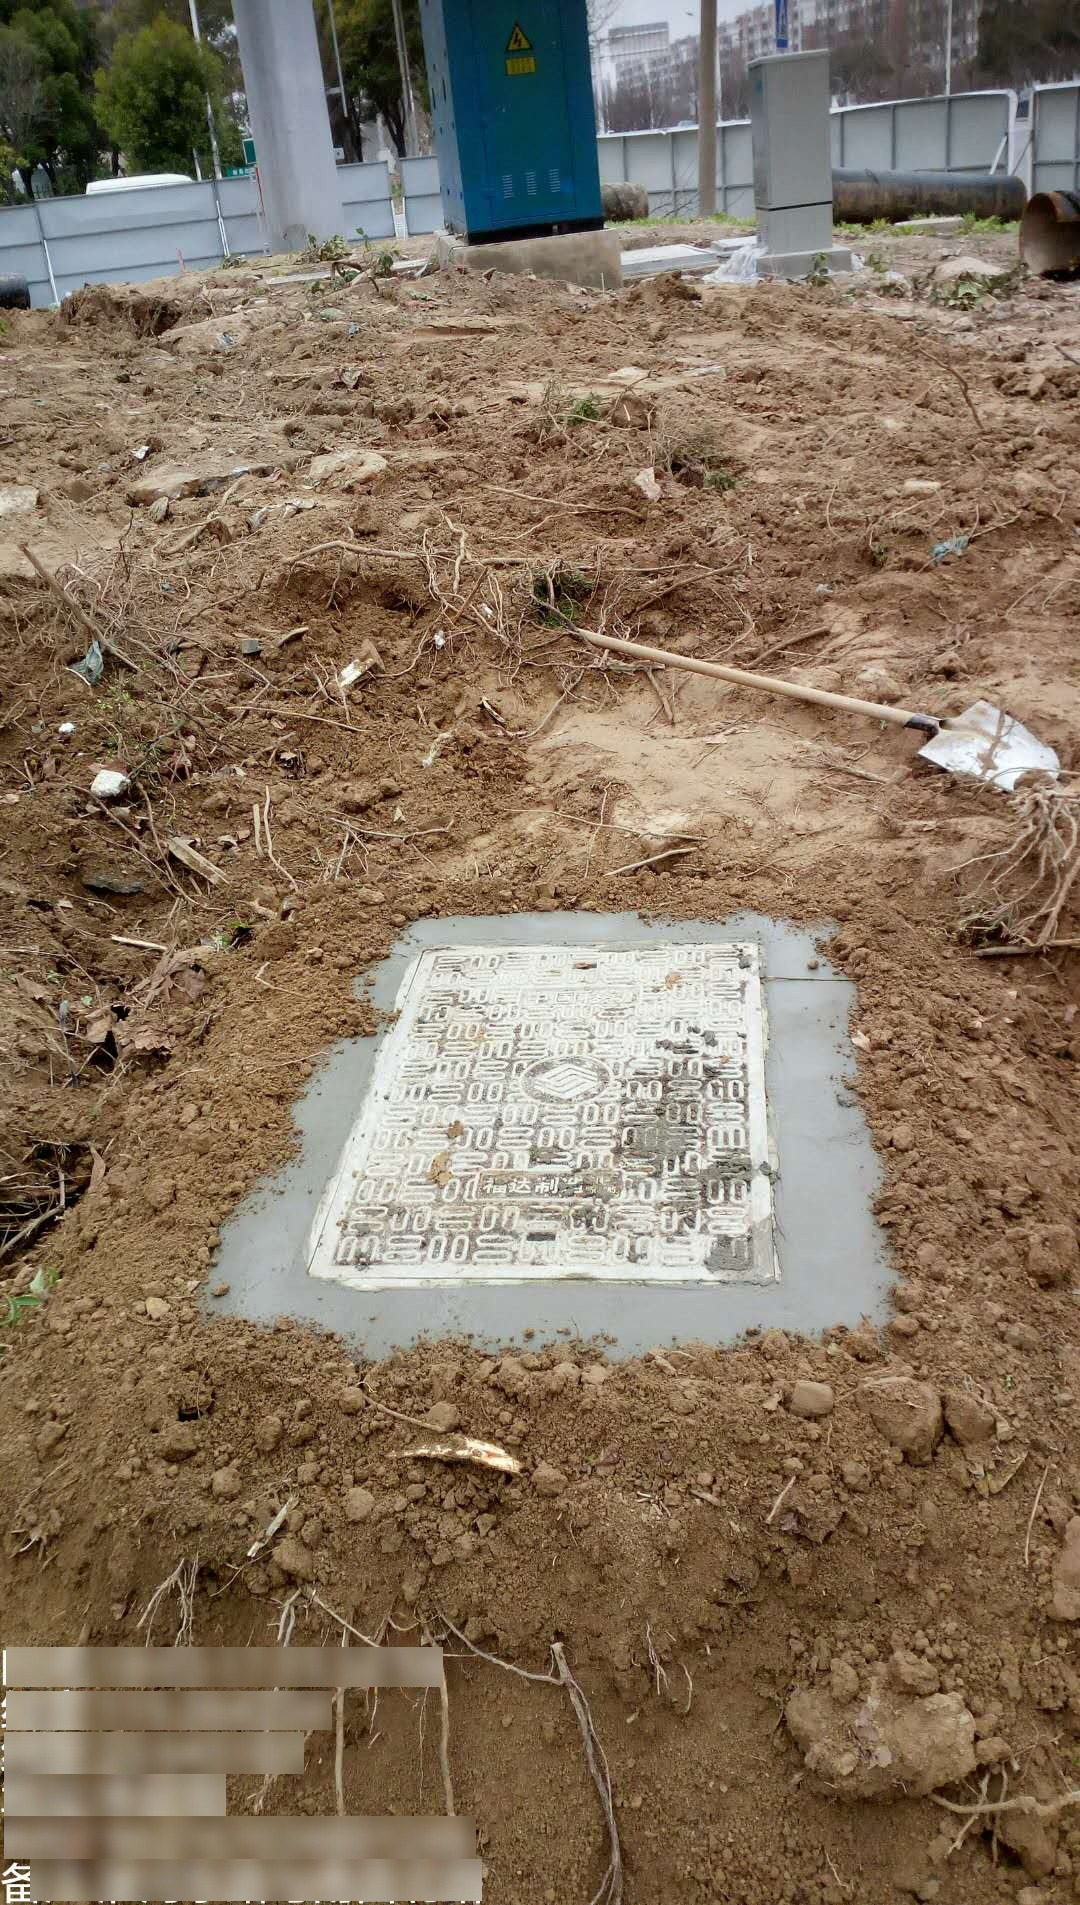well: (304, 933, 792, 1291)
